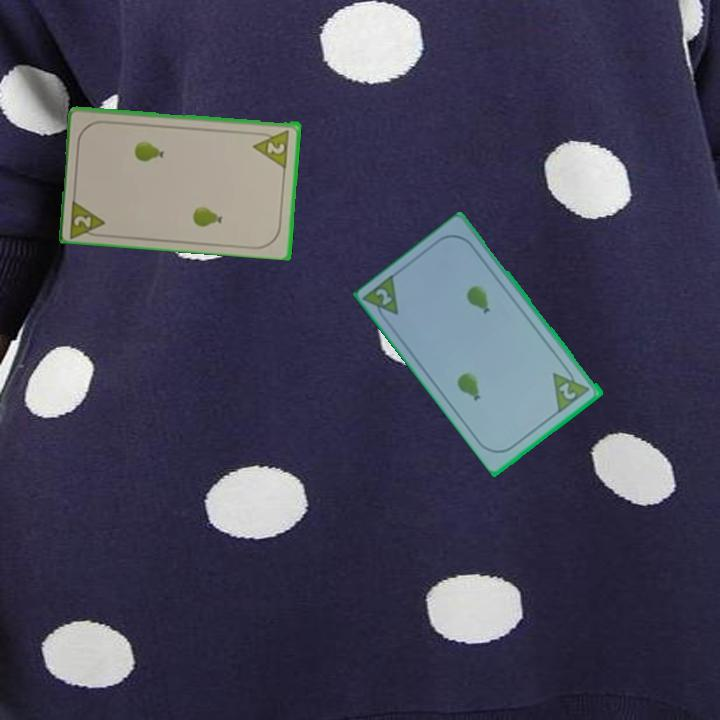2p: (361, 270, 402, 327), (549, 362, 593, 415), (66, 194, 109, 239), (264, 137, 288, 156)
